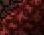crimstone: (1, 0, 44, 35)
